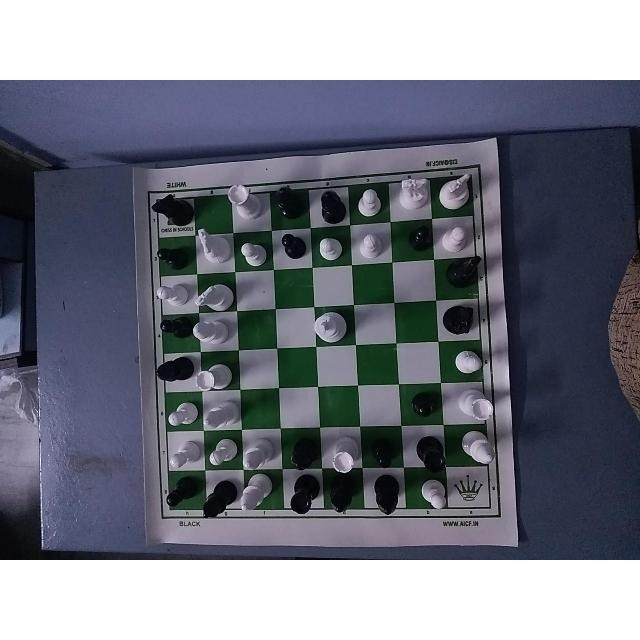black-bishop: (370, 468, 405, 522), (202, 471, 238, 522), (153, 351, 197, 391), (309, 182, 349, 224), (330, 468, 362, 520), (284, 435, 323, 473), (270, 180, 302, 220)
black-knight: (148, 189, 198, 233), (442, 250, 485, 289), (440, 300, 476, 339)
black-pawn: (164, 475, 204, 514), (157, 312, 198, 348), (155, 239, 199, 272), (404, 215, 435, 256), (274, 232, 312, 264), (403, 387, 439, 419), (371, 436, 399, 472)
black-rook: (285, 468, 321, 515), (415, 438, 451, 476)
white-bishop: (234, 472, 274, 519), (457, 432, 498, 470), (192, 313, 236, 347), (242, 433, 278, 474), (202, 399, 240, 433)
white-king: (308, 309, 358, 348)
white-knight: (191, 225, 235, 270), (194, 277, 239, 313), (394, 173, 429, 213), (437, 173, 473, 211)
white-pawn: (203, 431, 244, 473), (312, 229, 354, 266), (163, 393, 203, 429), (433, 218, 471, 254), (350, 184, 386, 222), (414, 475, 448, 515), (167, 435, 202, 473), (235, 237, 274, 270), (350, 224, 387, 258), (153, 282, 197, 308), (450, 350, 486, 377)
white-rook: (222, 179, 269, 231), (453, 386, 497, 426), (192, 358, 233, 393), (327, 435, 362, 475)
